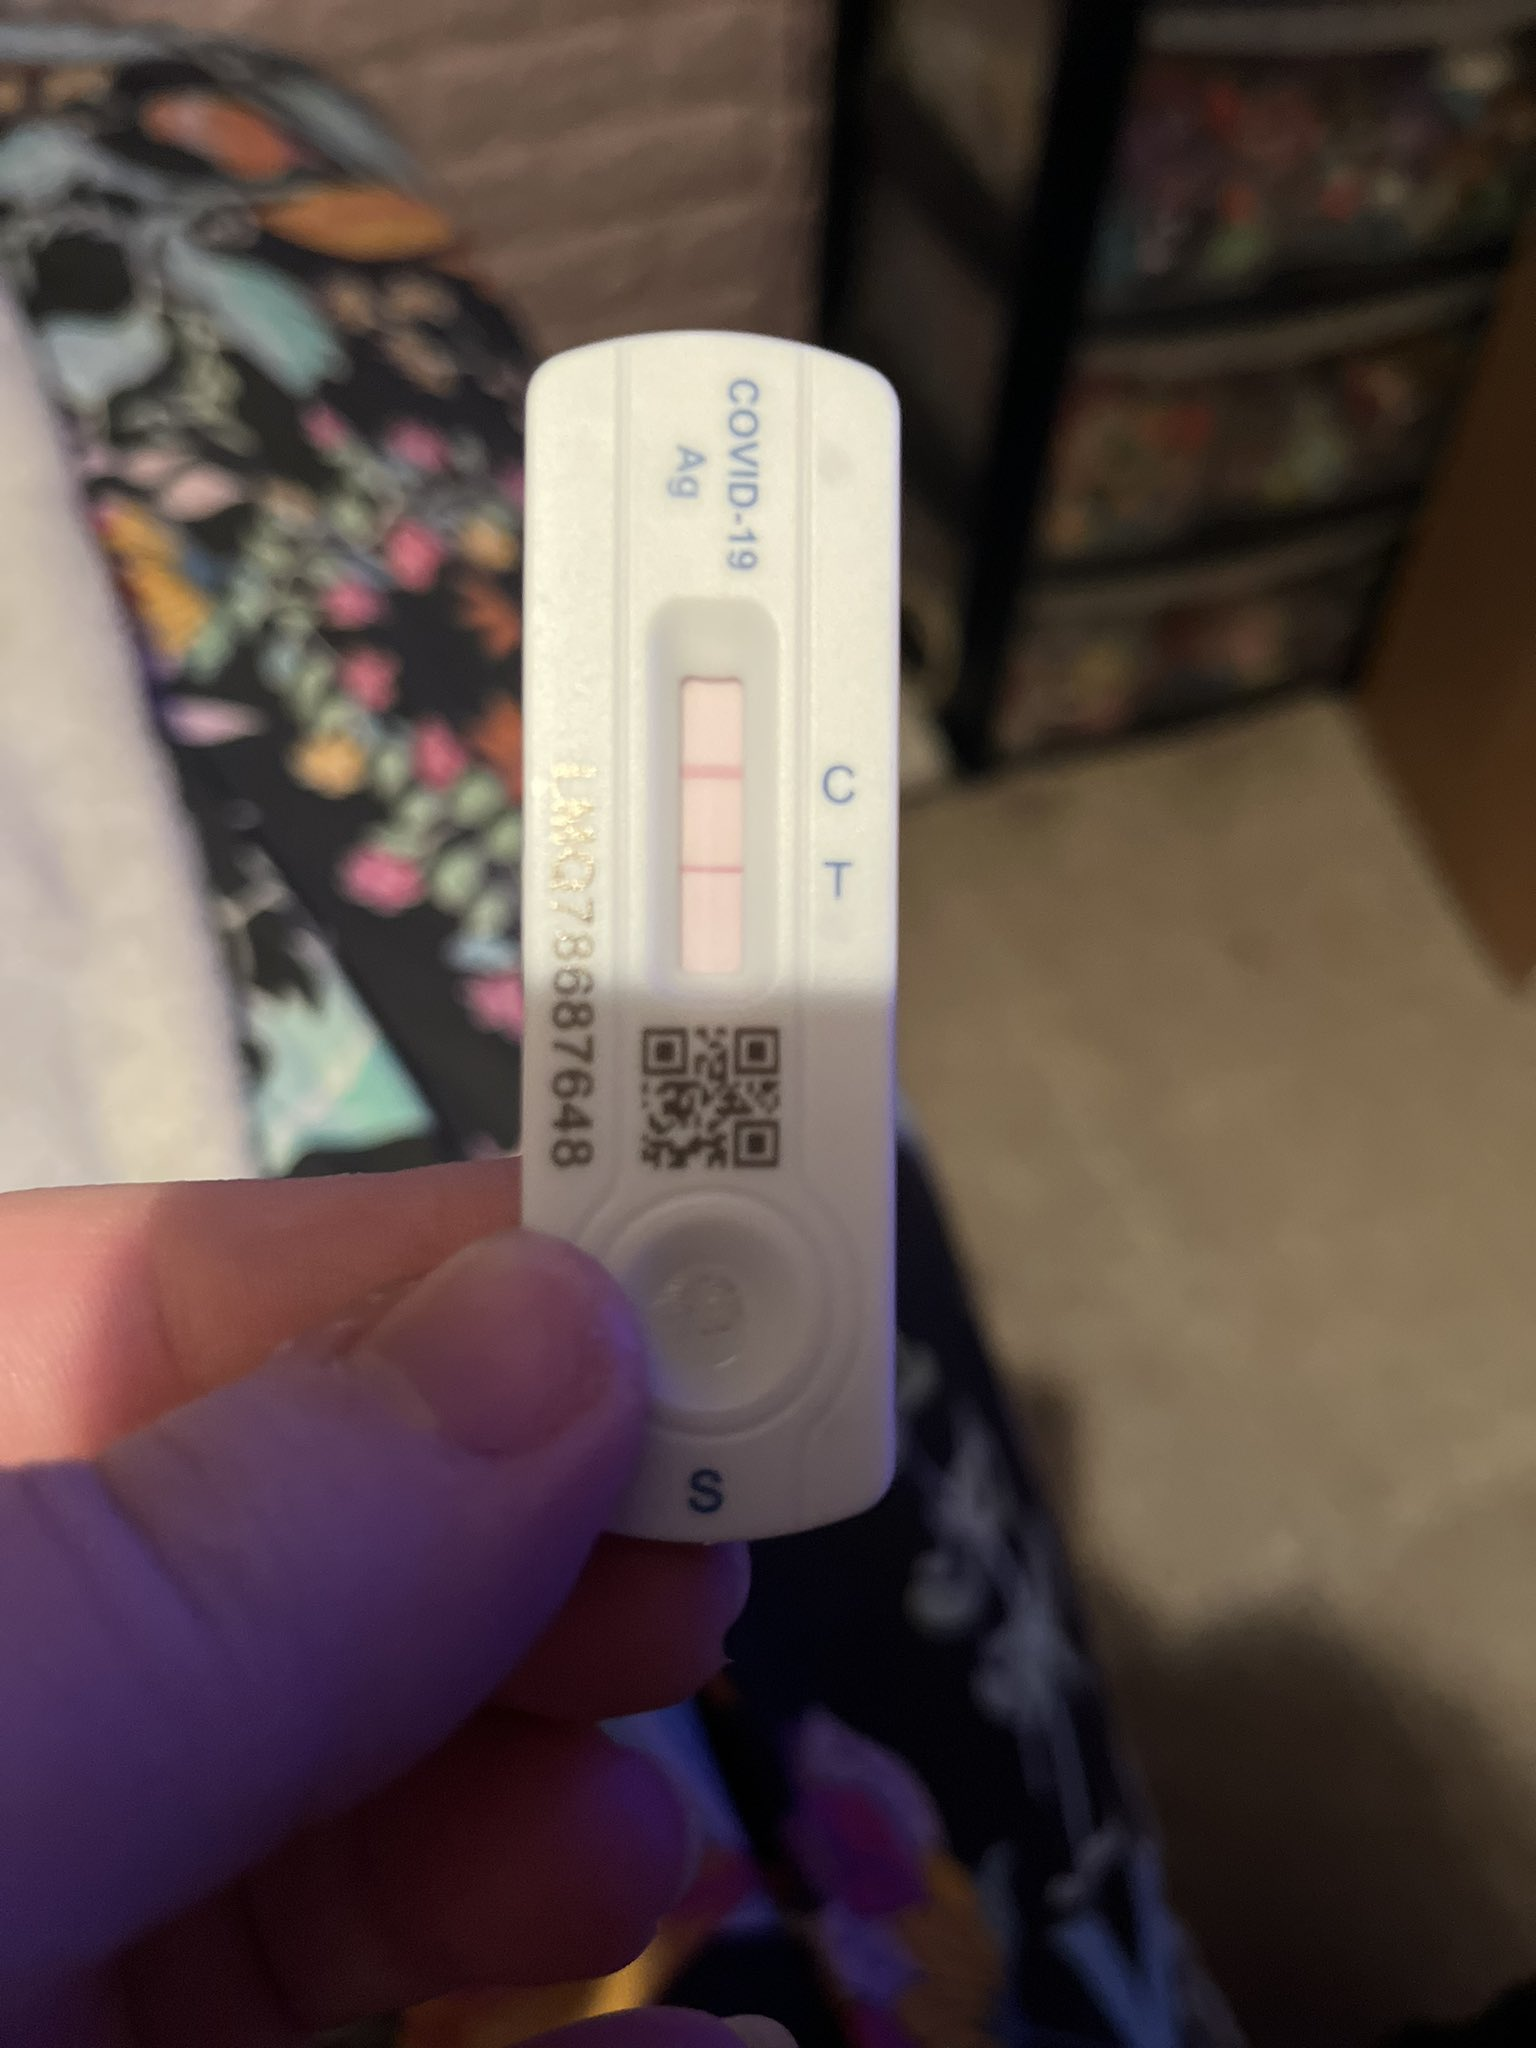positive: (645, 605, 774, 989)
